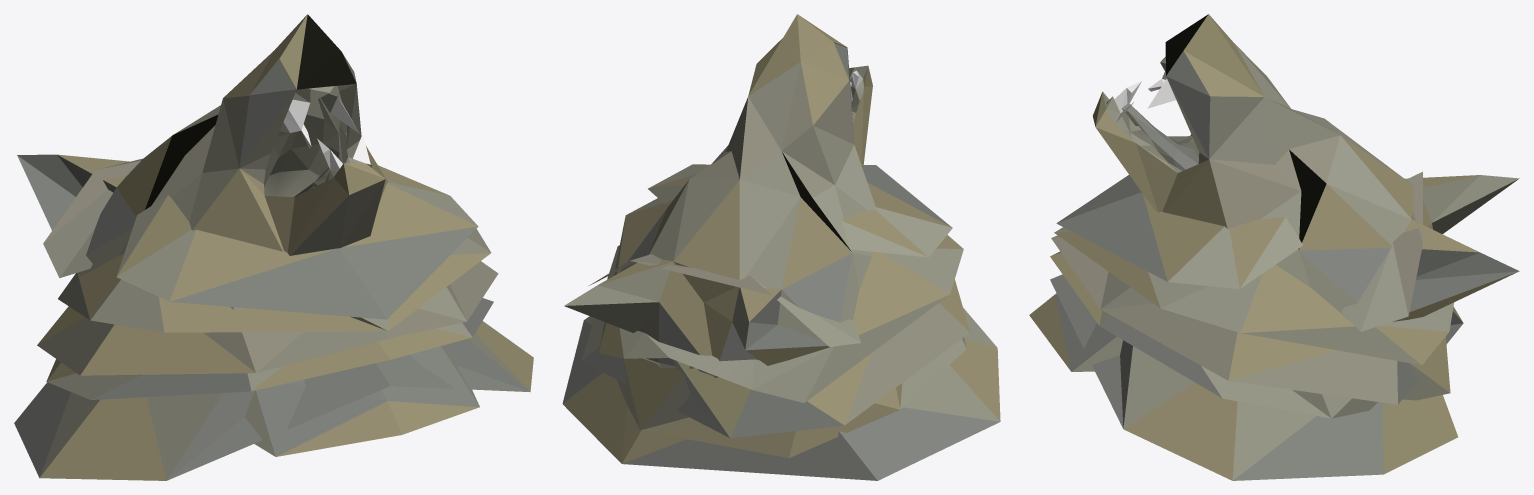
File: wolf03.obj
The picture shows the model from 3 angles, left to right: view 1: azimuth 30°, elevation 25°; view 2: azimuth 150°, elevation 25°; view 3: azimuth 270°, elevation 25°; orthographic projection. The views are drawn at different scales.
Parts seen in each view (by area): view 1: grp1; view 2: grp1; view 3: grp1.
Part boxes in pixels (x1,y1,x2,y2): grp1: (14,14,533,480); grp1: (562,14,1000,480); grp1: (1029,14,1519,480).
Size of the model in its own units: 23 by 19.86 by 22.39.
